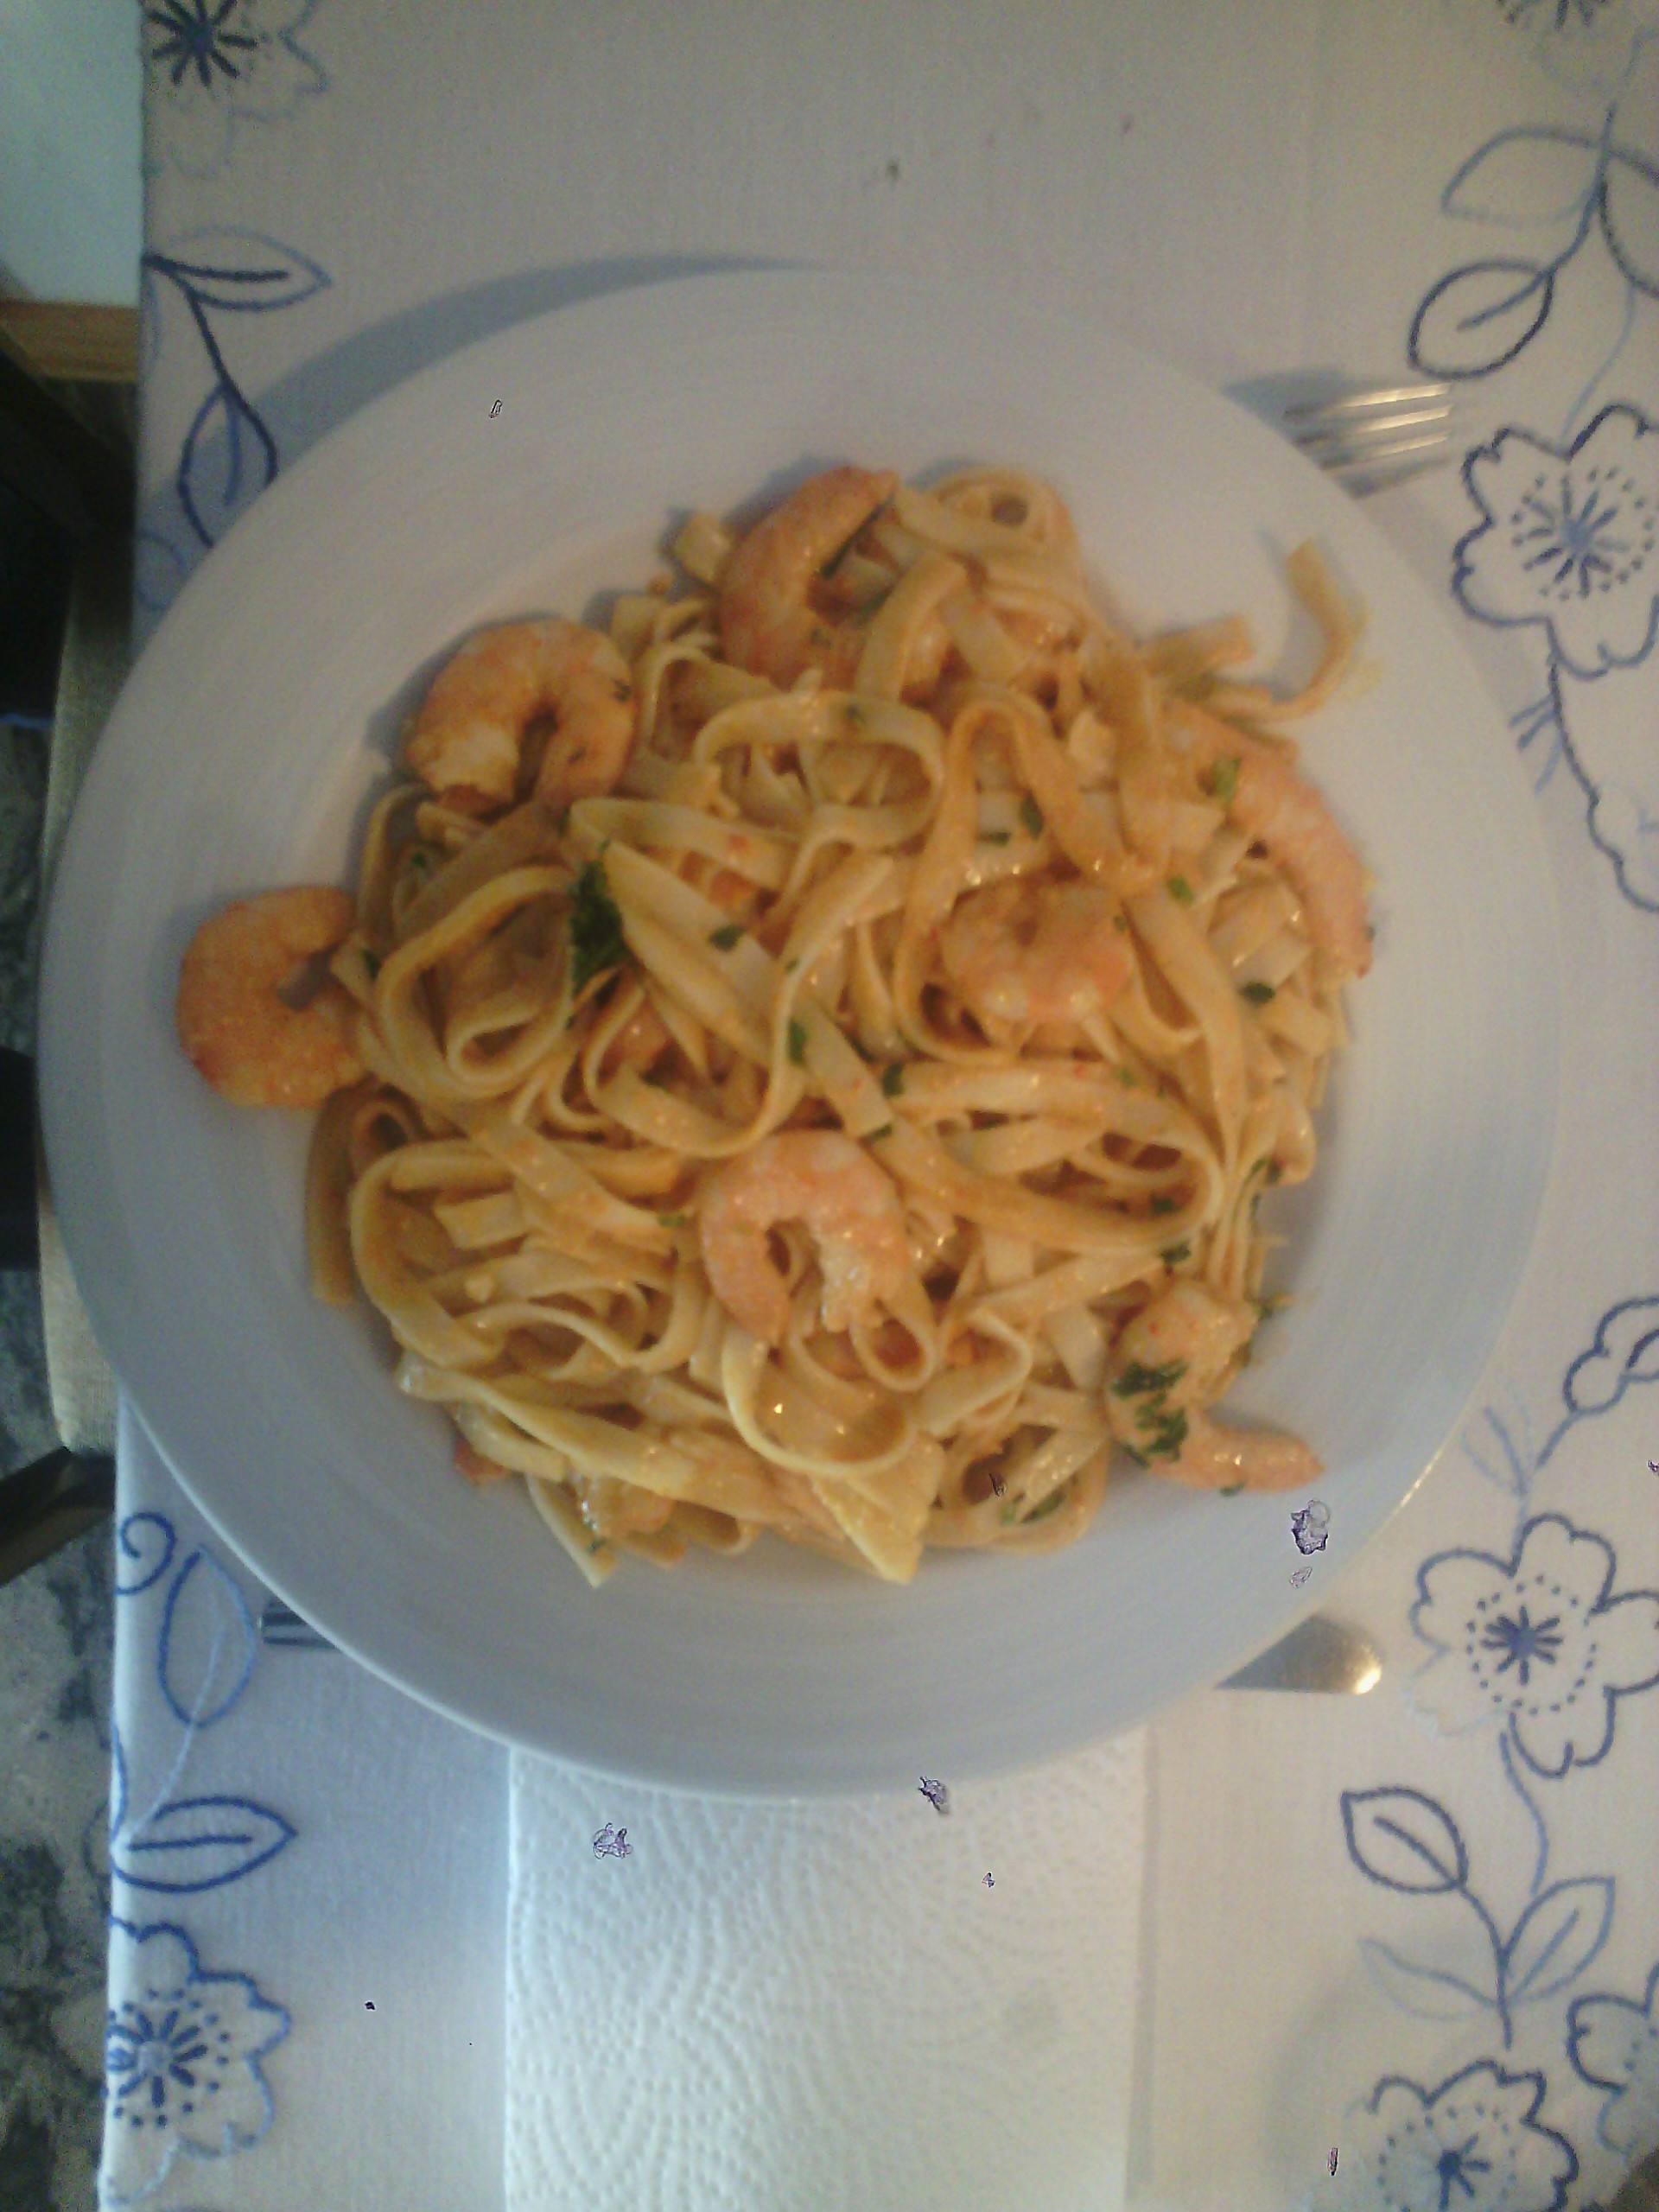81-100: (63, 272, 1554, 1815)
